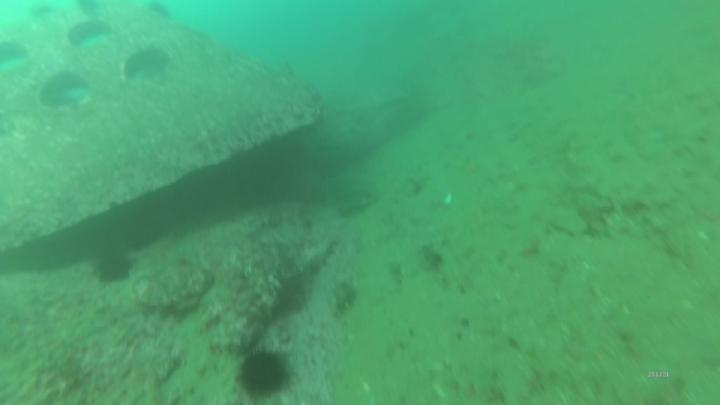echinus: (235, 342, 294, 400)
holothurian: (334, 272, 360, 323)
starfish: (94, 249, 138, 285)
